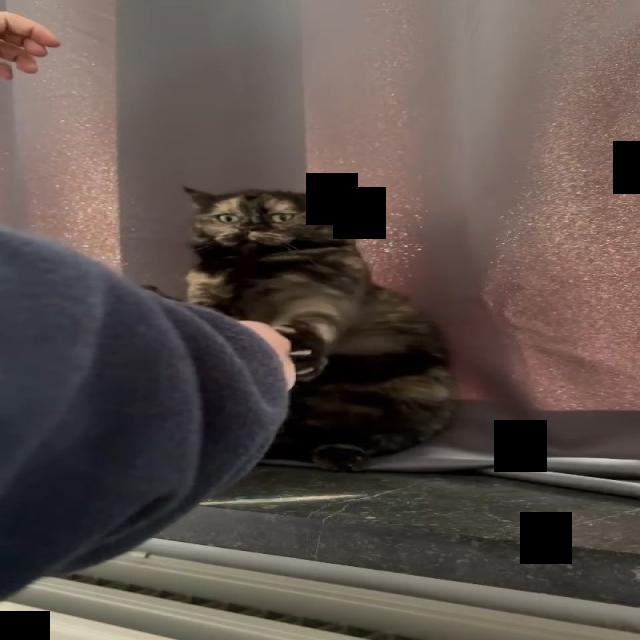authorized: (178, 181, 454, 472)
